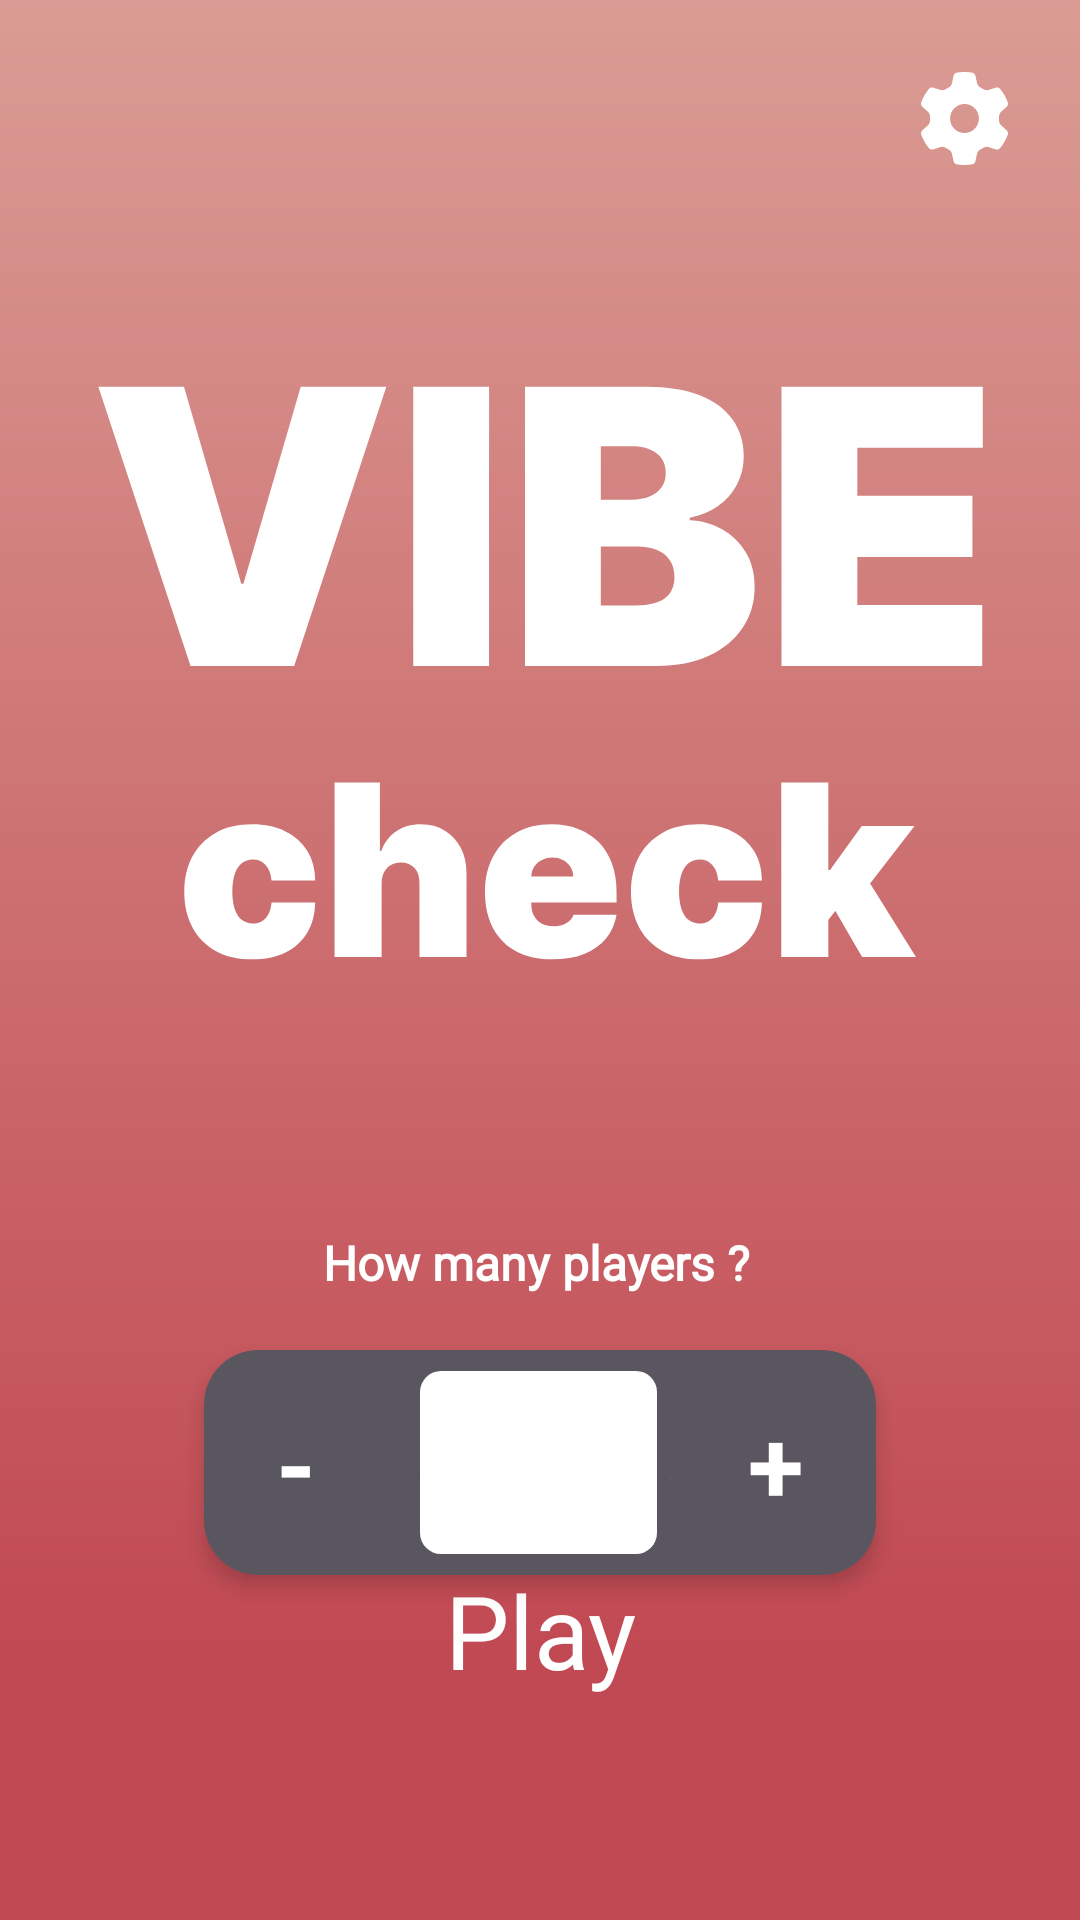

Point at icon controls on the screen. Image size 1080 x 1920, points as (x,y).
settings: (964,118)
